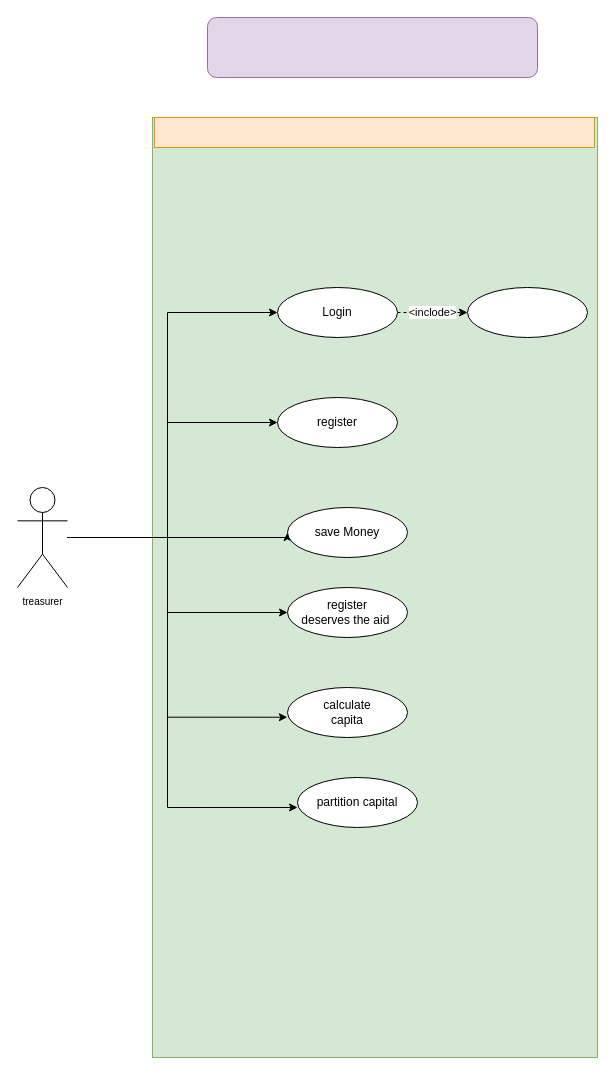
This 615x1083 diagram has some shape labels left out. Each missing label, with the centre of its shape:
system boundry: the point at 374,132
USE CASE Diagram: the point at 372,47
Verify User: the point at 527,312
